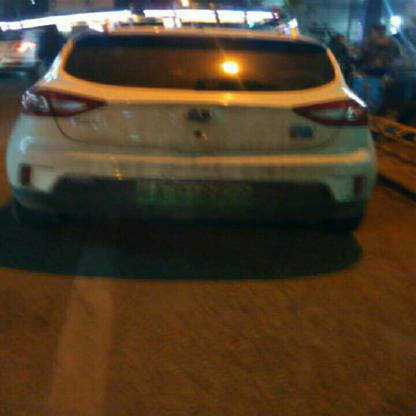lp: (136, 180, 254, 205)
